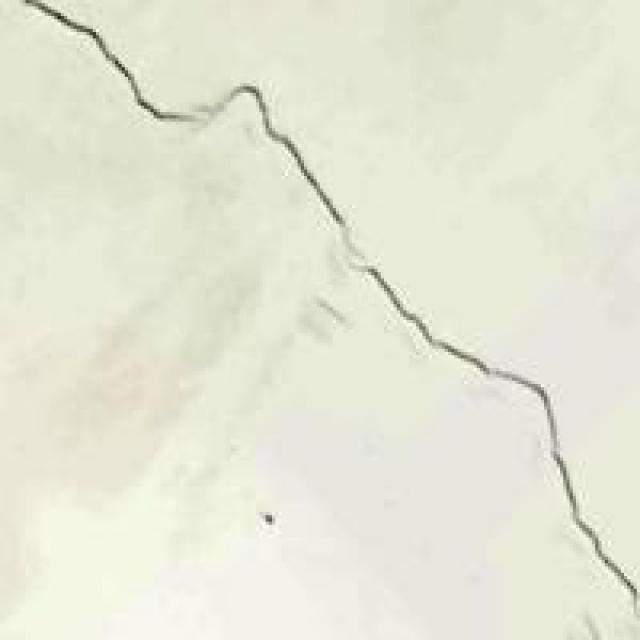crack: (29, 6, 637, 608)
